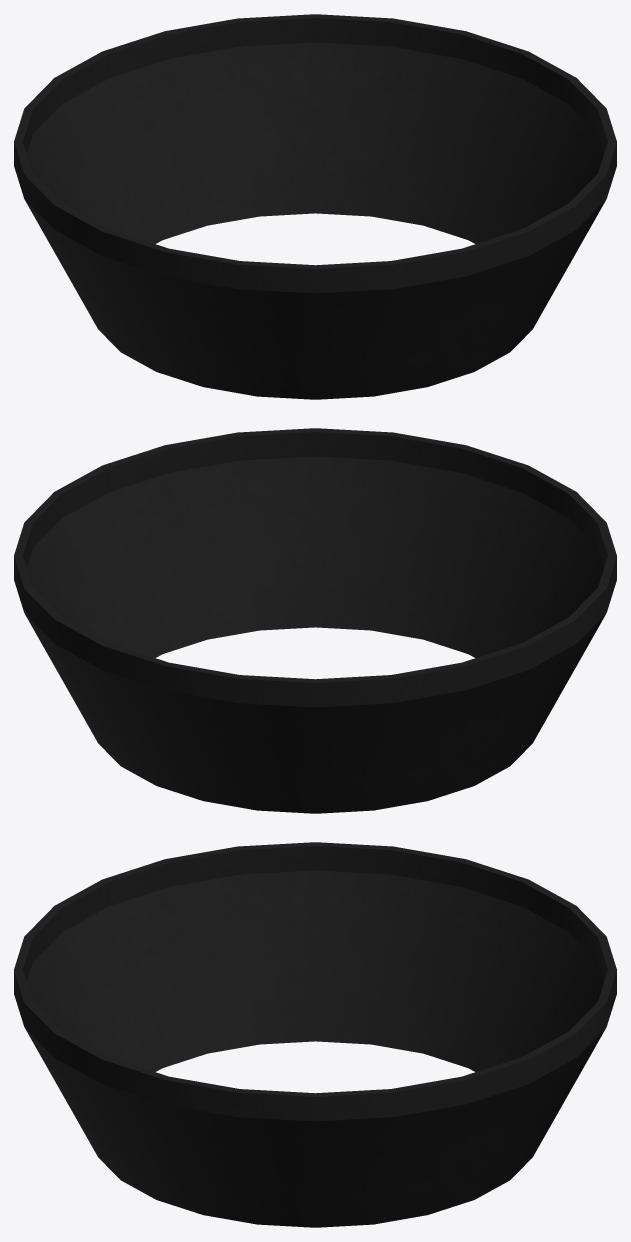
Rendered from cygnus_service_module_s1p5_1_fairing.obj.
The picture shows the model from 3 angles, top to bottom: view 1: azimuth 30°, elevation 25°; view 2: azimuth 150°, elevation 25°; view 3: azimuth 270°, elevation 25°; orthographic projection.
Parts seen in each view (by area): view 1: mesh1; view 2: mesh1; view 3: mesh1.
Boxes of the visible parts, left/top/right/bottom form: mesh1: left=14, top=14, right=616, bottom=399; mesh1: left=14, top=428, right=616, bottom=813; mesh1: left=14, top=842, right=616, bottom=1227.
Size of the model in its own units: 1.67 by 0.5 by 1.67.
